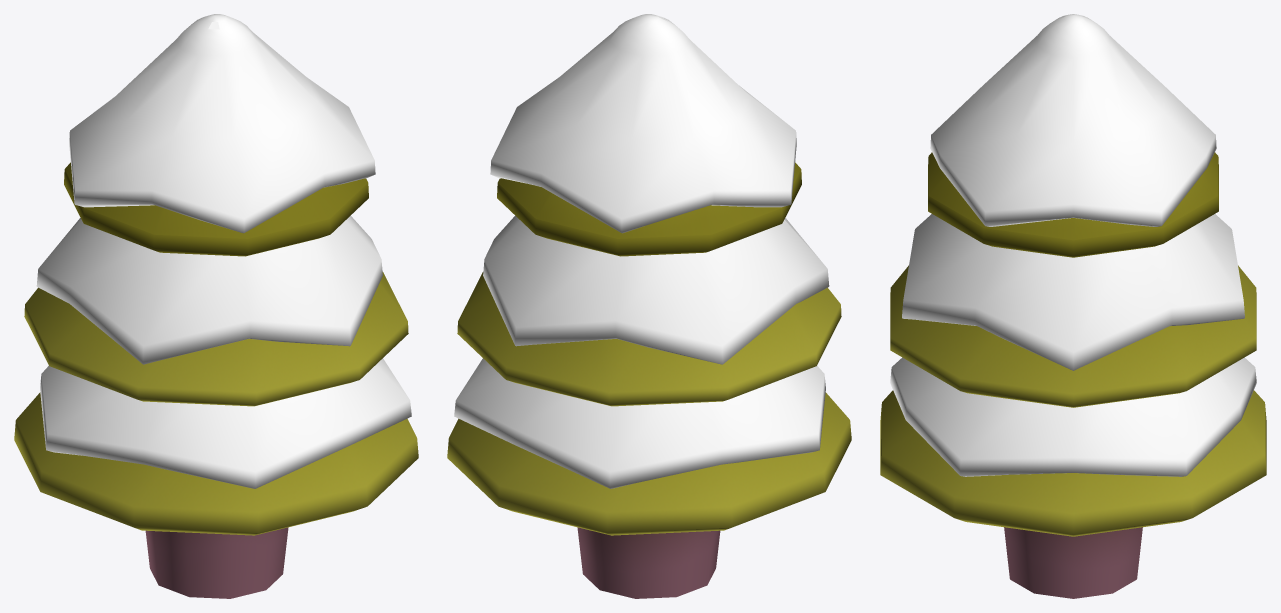
Rendered from placeholder_winterPine.fbx.
The picture shows the model from 3 angles, left to right: view 1: azimuth 30°, elevation 25°; view 2: azimuth 150°, elevation 25°; view 3: azimuth 270°, elevation 25°; orthographic projection.
Parts seen in each view (by area): view 1: tree, topSnow, middleSnow, bottomSnow; view 2: tree, topSnow, middleSnow, bottomSnow; view 3: tree, topSnow, middleSnow, bottomSnow.
Part boxes in pixels (x1,y1,x2,y2): tree: [14, 162, 418, 598]; topSnow: [69, 14, 375, 233]; middleSnow: [36, 215, 382, 364]; bottomSnow: [40, 358, 411, 488]; tree: [447, 162, 851, 598]; topSnow: [490, 14, 796, 233]; middleSnow: [483, 215, 829, 364]; bottomSnow: [454, 358, 825, 488]; tree: [880, 152, 1266, 598]; topSnow: [930, 14, 1216, 226]; middleSnow: [902, 214, 1244, 370]; bottomSnow: [890, 357, 1256, 476].
Bounding box in the file's own units: 2.6 × 3.91 × 2.47.
